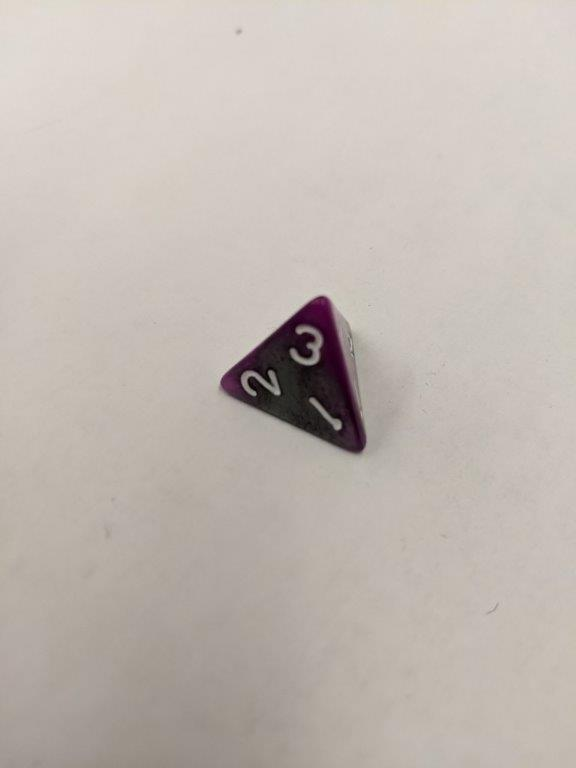d4-3: (212, 291, 371, 461)
